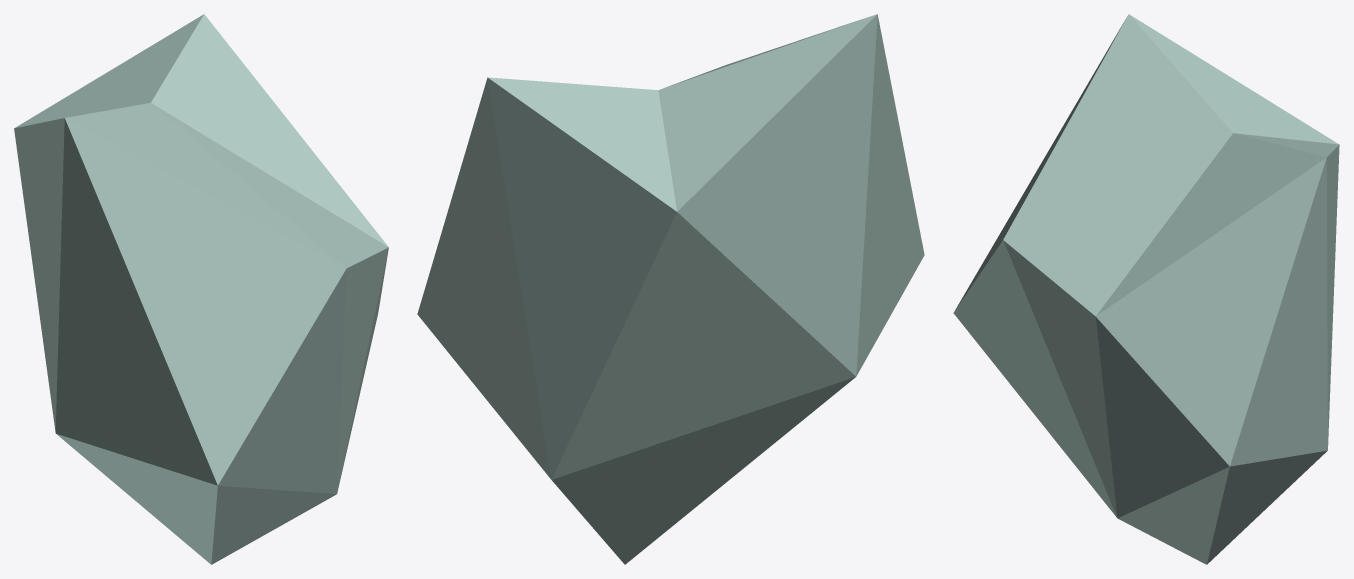
Rendered from kamen4.fbx.
3 views of the same model, side by side, from view 1: azimuth 30°, elevation 25°; view 2: azimuth 150°, elevation 25°; view 3: azimuth 270°, elevation 25° (orthographic). The views are drawn at different scales.
Visible parts, largest first — view 1: kamen3; view 2: kamen3; view 3: kamen3.
Boxes of the visible parts, <box> form: kamen3: <box>14,14,388,564</box>; kamen3: <box>417,14,924,564</box>; kamen3: <box>953,14,1339,564</box>.
Bounding box in the file's own units: 162 × 219 × 164.
